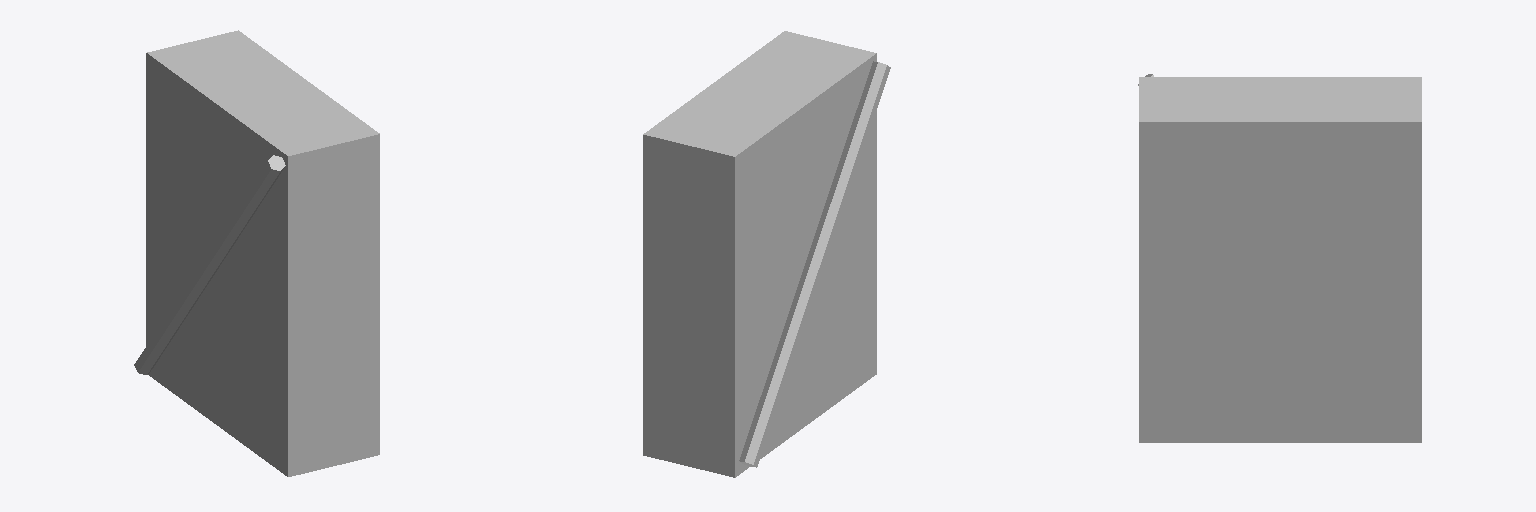
Rendered from DrinksCarton.obj.
3 renders of one model, left to right at view 1: azimuth 30°, elevation 25°; view 2: azimuth 150°, elevation 25°; view 3: azimuth 270°, elevation 25°, orthographic.
Parts seen in each view (by area): view 1: Cube.001_Cube.004, Straw_Cylinder.002; view 2: Cube.001_Cube.004, Straw_Cylinder.002; view 3: Cube.001_Cube.004.
Part boxes in pixels (left/top/right/bottom): Cube.001_Cube.004: left=146, top=30, right=379, bottom=476; Straw_Cylinder.002: left=134, top=155, right=285, bottom=374; Cube.001_Cube.004: left=643, top=31, right=876, bottom=477; Straw_Cylinder.002: left=739, top=61, right=890, bottom=467; Cube.001_Cube.004: left=1139, top=77, right=1421, bottom=442.
Bounding box in the file's own units: 0.7 × 2 × 1.61.